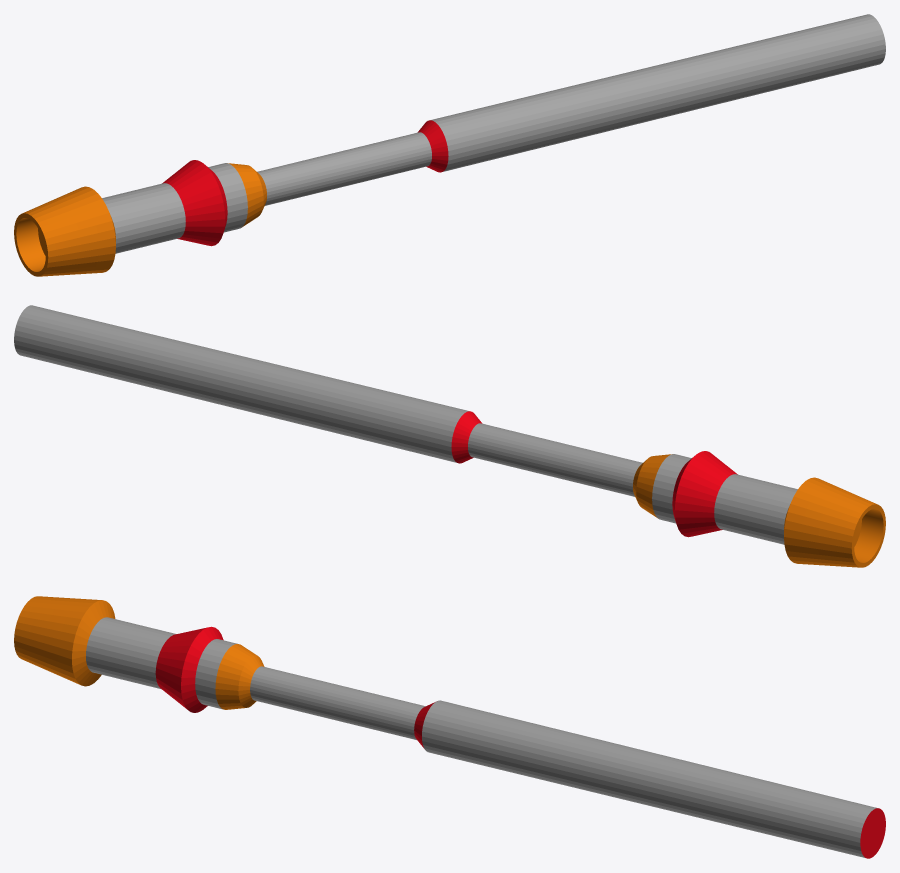
File: R2D2 KEY.fbx
The picture shows the model from 3 angles, top to bottom: view 1: azimuth 30°, elevation 25°; view 2: azimuth 150°, elevation 25°; view 3: azimuth 330°, elevation 25°; orthographic projection.
Visible parts, largest first — view 1: Cylinder; view 2: Cylinder; view 3: Cylinder.
Part boxes in pixels (x1,y1,x2,y2): Cylinder: (14, 14, 885, 276); Cylinder: (14, 305, 885, 567); Cylinder: (14, 596, 885, 858).
Bounding box in the file's own units: 2200 × 200 × 200.
